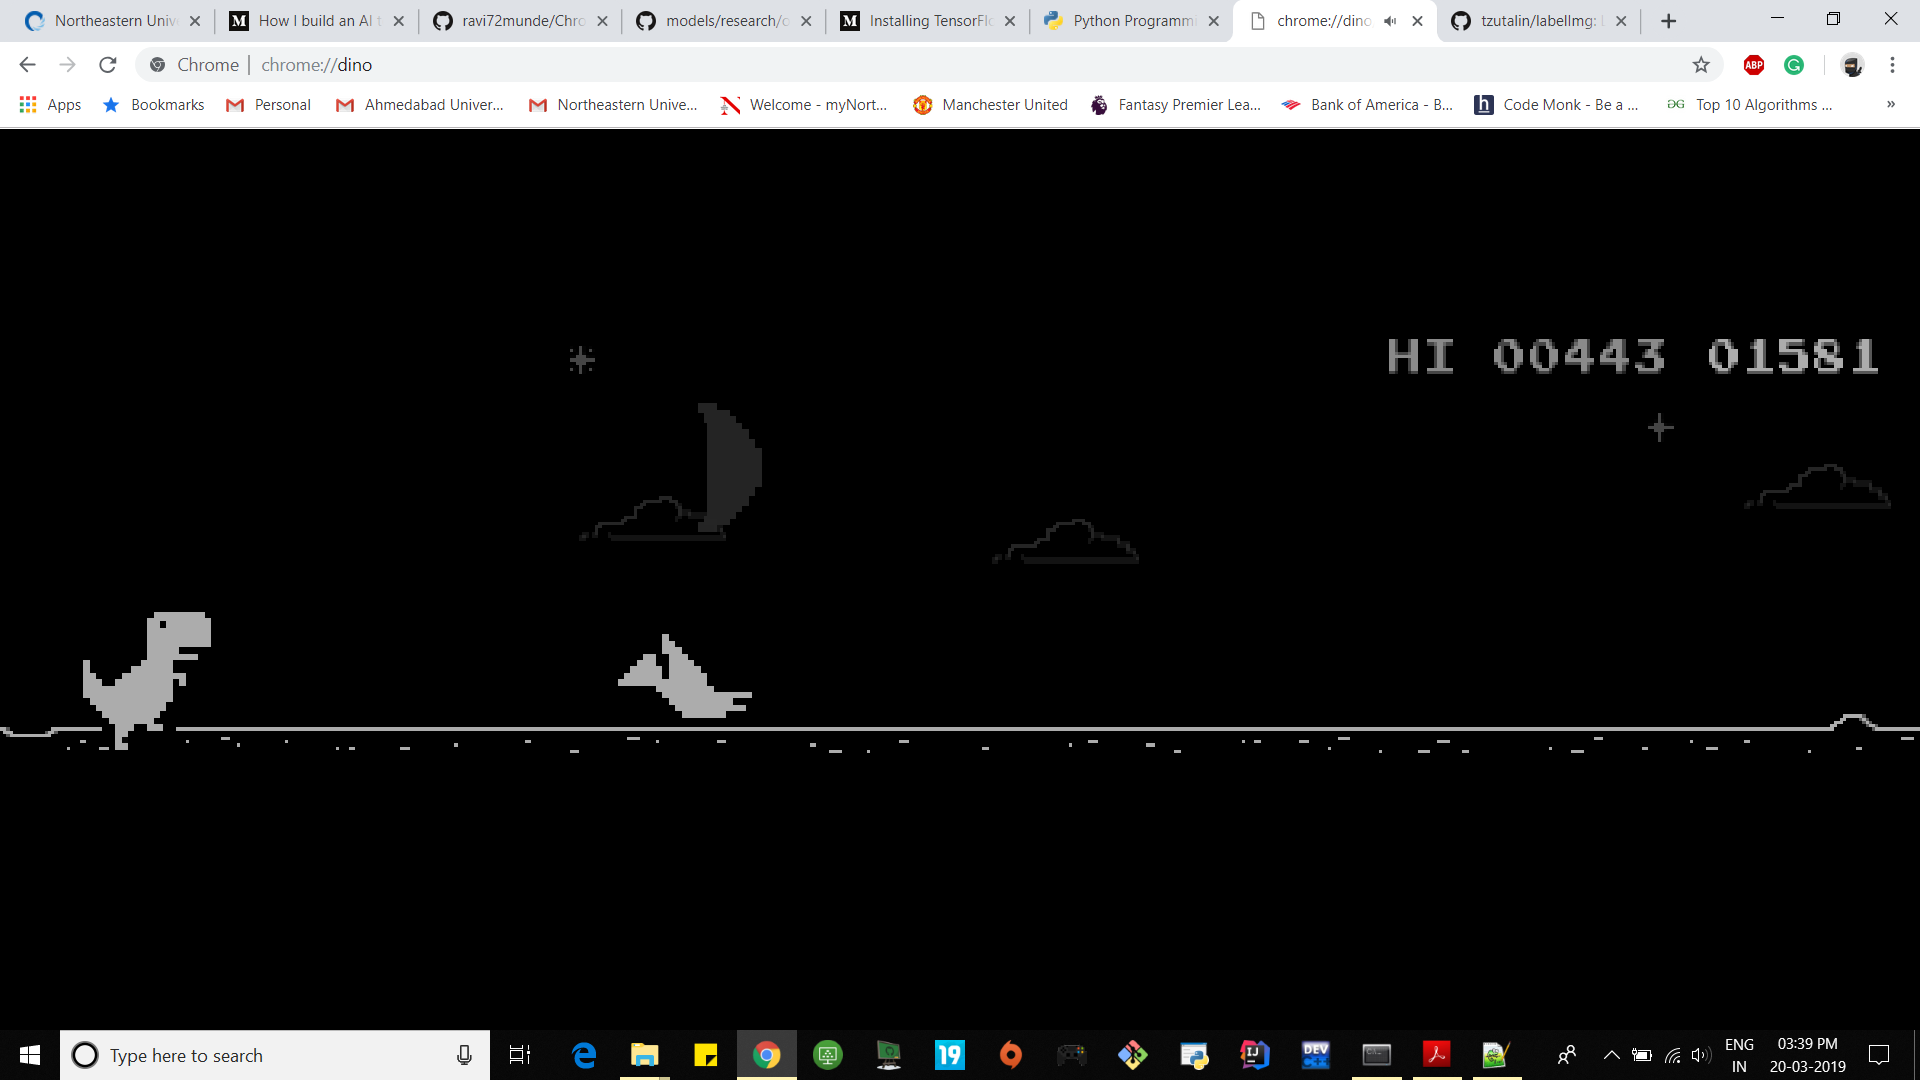bird: (615, 632, 752, 717)
dino: (84, 611, 210, 748)
